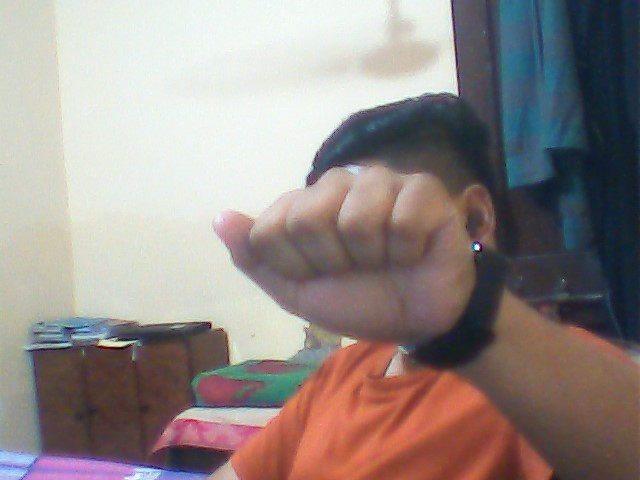Yes: (204, 165, 489, 337)
